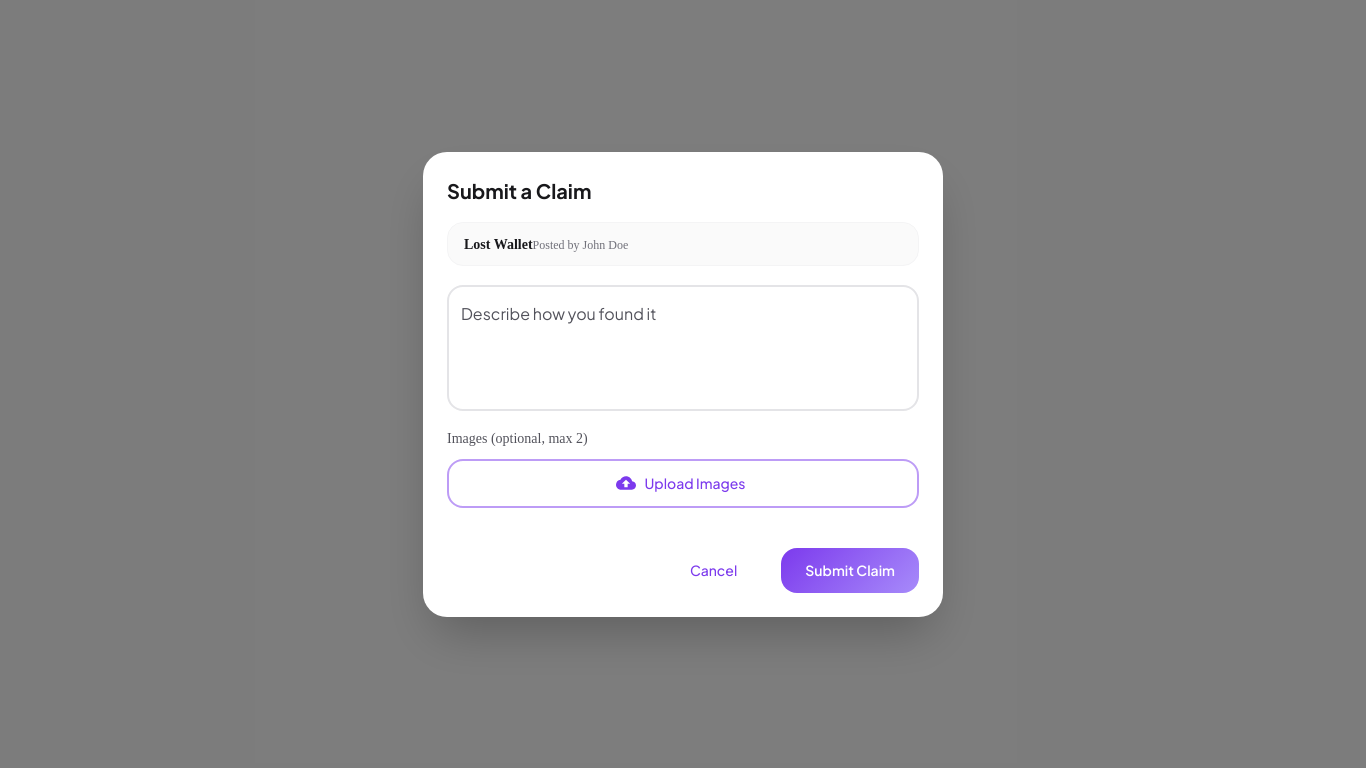
Scenario: ClaimSubmitDialog › shows "already claimed" alert on 409
In the text box labelled "Describe how you found it": x=683, y=348 [461,302,905,394], type "I found this wallet near the park bench area"
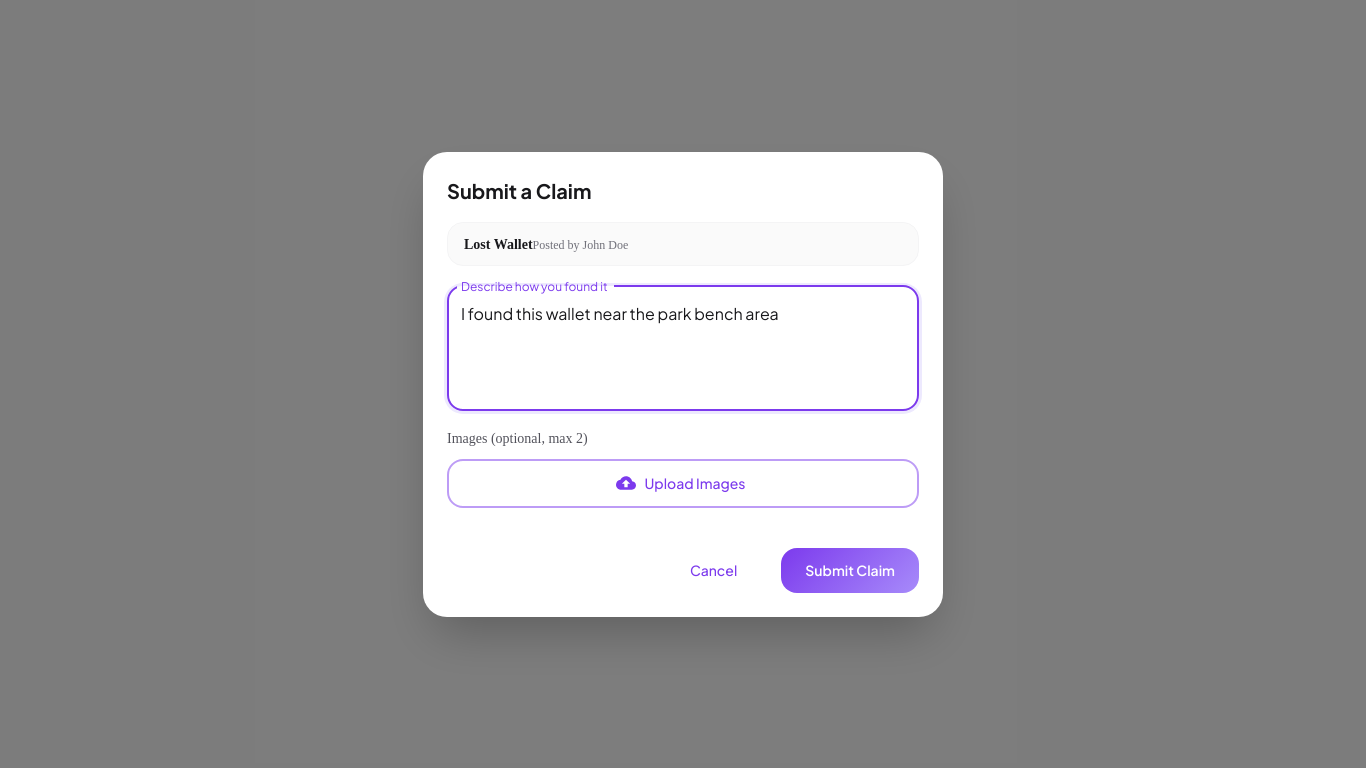
Click the button "Submit Claim": x=850, y=570 [781,548,919,592]
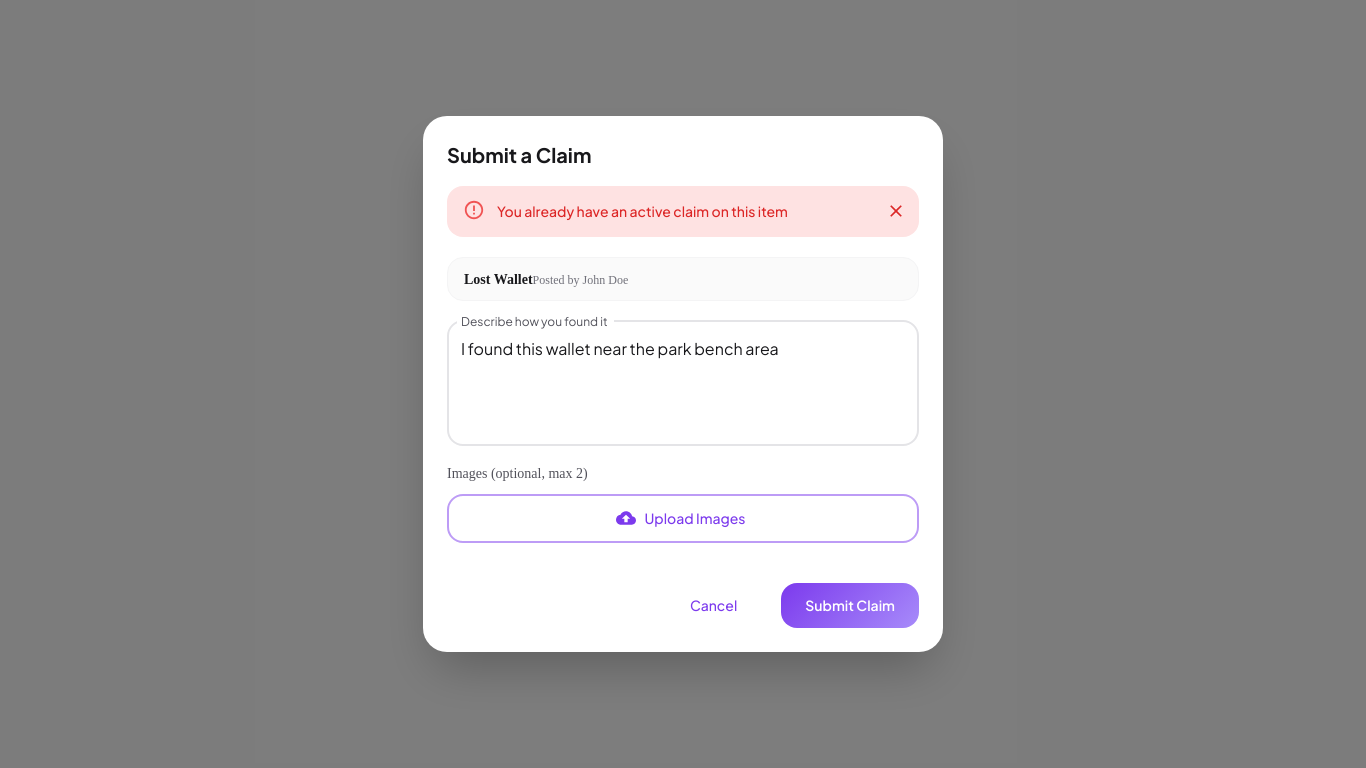
Check: the text "You already have an active claim on this item" is shown, box [497,202,788,220]
